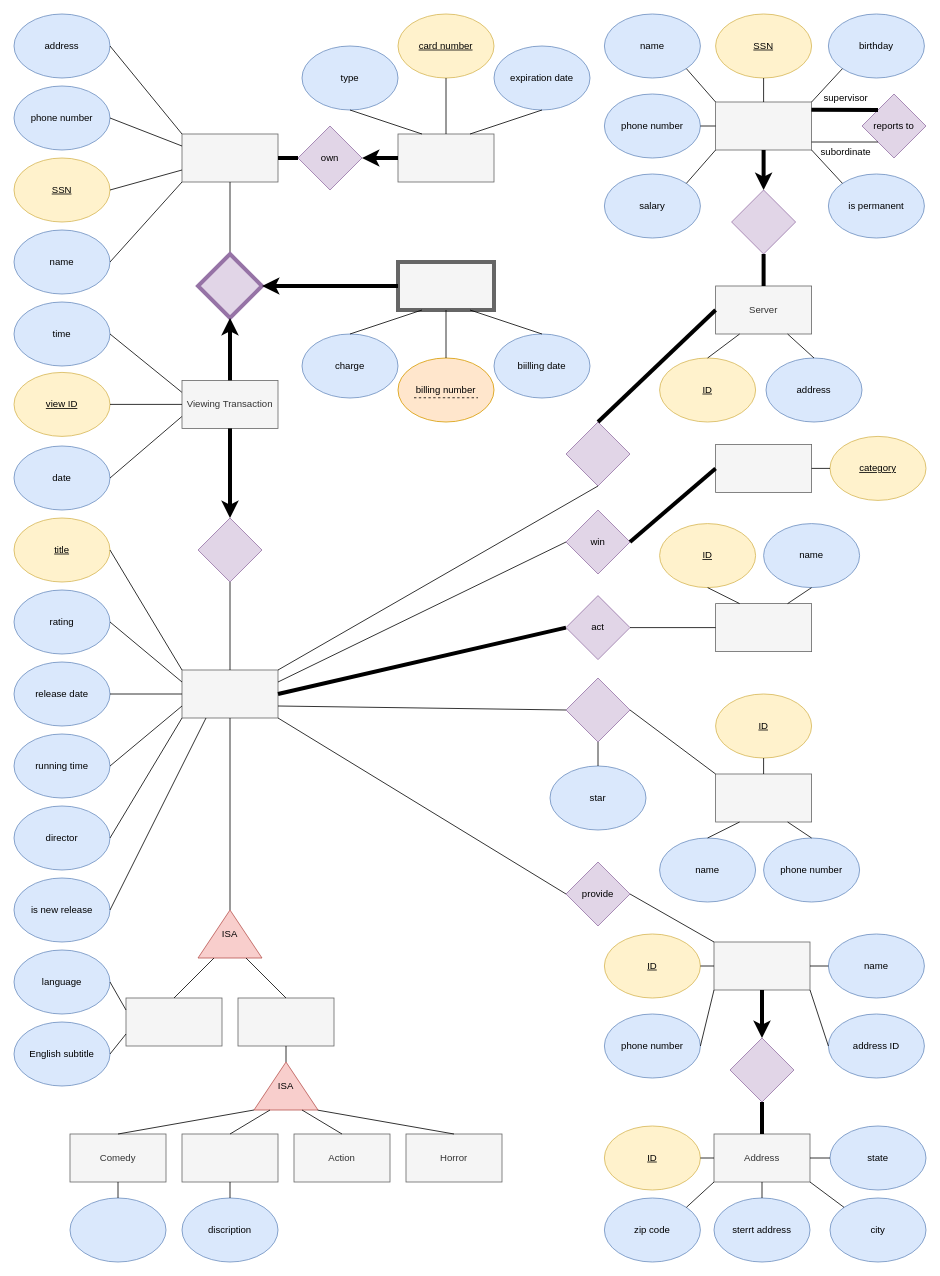
Image size: 940x1276. Some labels were removed from this diagram. Each missing label, with the centre of its shape:
"Actor" belongs at point (763, 627).
"Award" belongs at point (763, 468).
"Billing Statement" belongs at point (446, 286).
"Credit Card" belongs at point (445, 157).
"Critic" belongs at point (763, 797).
"Customer" belongs at point (229, 157).
"Distributor" belongs at point (761, 965).
"Domestic Movie" belongs at point (285, 1021).
"Drama" belongs at point (229, 1157).
"Enployee" belongs at point (763, 125).
"evaluate" belongs at point (597, 709).
"Foreign Movie" belongs at point (173, 1021).
"funniness" belongs at point (117, 1229).
"locate" belongs at point (761, 1069).
"Movie" belongs at point (229, 693).
"store" belongs at point (597, 453).
"stream" belongs at point (229, 549).
"view" belongs at point (230, 286).
"work" belongs at point (763, 221).
